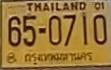0: (92, 14, 106, 44), (48, 15, 61, 45)
1: (82, 14, 86, 44)
5: (22, 14, 36, 45)
6: (7, 15, 20, 46)
7: (63, 14, 75, 45)
BKK: (22, 50, 95, 65)
